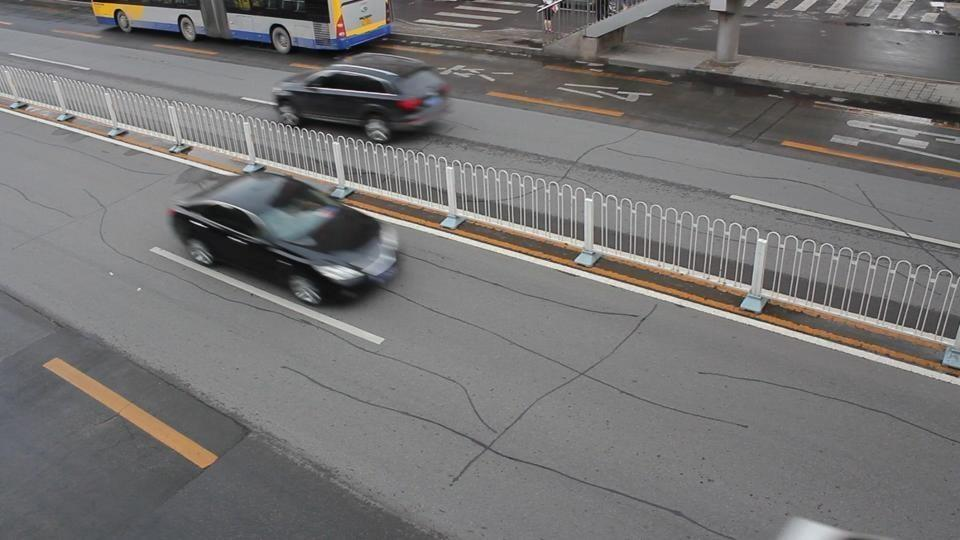car: (165, 162, 402, 307), (271, 52, 452, 143)
